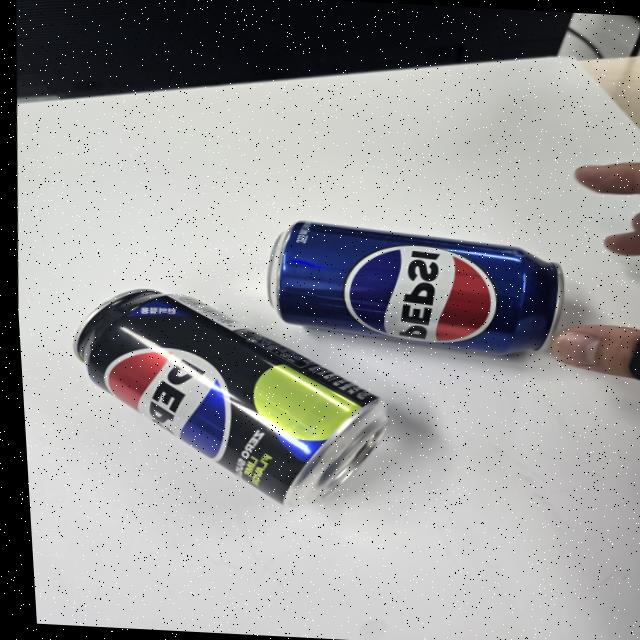can_pepsi: (265, 218, 563, 359)
can_pepsi_zero: (73, 288, 390, 506)
